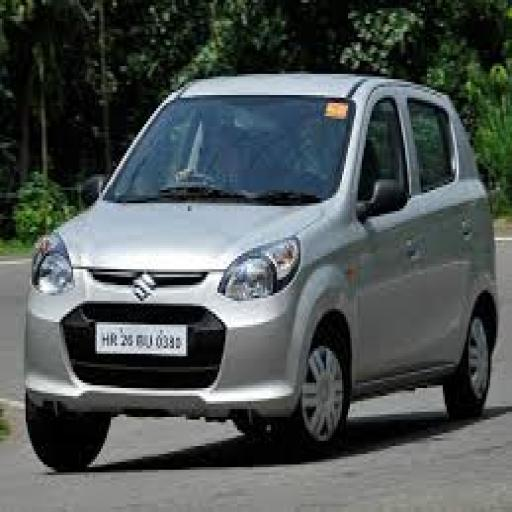License: (92, 317, 191, 355)
